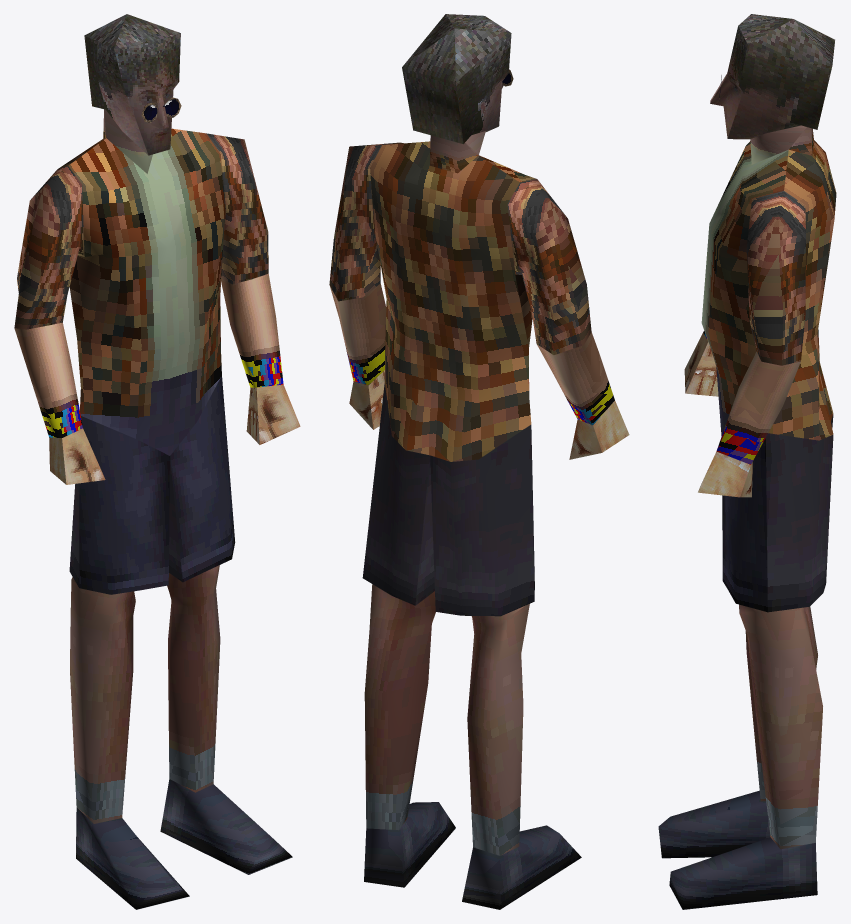
The model's file is boris.obj.
The picture shows the model from 3 angles, left to right: view 1: azimuth 30°, elevation 25°; view 2: azimuth 150°, elevation 25°; view 3: azimuth 270°, elevation 25°; orthographic projection. The views are drawn at different scales.
Parts seen in each view (by area): view 1: 15B849C5_c.bmp, 2045302C_c.bmp, 7B56703E_c.bmp, BEAA2D8_c.bmp, 53447286_c.bmp, 65322669_c.bmp, 116A52D5_c.bmp, 2E8AC6D4_c.bmp, 257DB619_c.bmp, 5F60E625_c.bmp, 190CD304_c.bmp, 5D79F3BA_c.bmp (+1 smaller); view 2: 380D7CA0_c.bmp, 190CD304_c.bmp, 2045302C_c.bmp, BEAA2D8_c.bmp, 53447286_c.bmp, 65322669_c.bmp, 5F60E625_c.bmp, 257DB619_c.bmp, 71AA0F1F_c.bmp, 59B55364_c.bmp, 60944829_c.bmp, 15B849C5_c.bmp (+1 smaller); view 3: 2045302C_c.bmp, 53447286_c.bmp, 190CD304_c.bmp, 15B849C5_c.bmp, BEAA2D8_c.bmp, 380D7CA0_c.bmp, 4452A4BF_c.bmp, 7B56703E_c.bmp, 65322669_c.bmp, 116A52D5_c.bmp, 60944829_c.bmp, 5F60E625_c.bmp (+4 smaller).
Boxes of the visible parts, x1,y1,x2,y2 form: 15B849C5_c.bmp: [68, 128, 225, 455]; 2045302C_c.bmp: [70, 565, 220, 823]; 7B56703E_c.bmp: [79, 376, 235, 594]; BEAA2D8_c.bmp: [14, 133, 268, 329]; 53447286_c.bmp: [76, 779, 292, 909]; 65322669_c.bmp: [14, 273, 283, 437]; 116A52D5_c.bmp: [114, 33, 180, 155]; 2E8AC6D4_c.bmp: [62, 384, 300, 484]; 257DB619_c.bmp: [84, 35, 148, 155]; 5F60E625_c.bmp: [84, 14, 180, 48]; 190CD304_c.bmp: [69, 458, 182, 587]; 5D79F3BA_c.bmp: [104, 109, 152, 173]; 380D7CA0_c.bmp: [370, 141, 531, 461]; 190CD304_c.bmp: [362, 383, 534, 616]; 2045302C_c.bmp: [364, 584, 529, 855]; BEAA2D8_c.bmp: [329, 142, 591, 354]; 53447286_c.bmp: [364, 802, 581, 909]; 65322669_c.bmp: [329, 283, 614, 424]; 5F60E625_c.bmp: [402, 14, 510, 144]; 257DB619_c.bmp: [456, 33, 511, 143]; 71AA0F1F_c.bmp: [349, 381, 601, 459]; 59B55364_c.bmp: [430, 135, 478, 173]; 60944829_c.bmp: [593, 401, 629, 452]; 15B849C5_c.bmp: [384, 142, 536, 347]; 2045302C_c.bmp: [739, 604, 822, 849]; 53447286_c.bmp: [658, 790, 817, 909]; 190CD304_c.bmp: [765, 415, 833, 612]; 15B849C5_c.bmp: [701, 141, 788, 435]; BEAA2D8_c.bmp: [746, 191, 805, 365]; 380D7CA0_c.bmp: [768, 140, 836, 440]; 4452A4BF_c.bmp: [727, 19, 832, 139]; 7B56703E_c.bmp: [722, 438, 767, 612]; 65322669_c.bmp: [703, 331, 800, 464]; 116A52D5_c.bmp: [710, 26, 747, 138]; 60944829_c.bmp: [698, 451, 750, 497]; 5F60E625_c.bmp: [738, 14, 834, 65].
Size of the model in its own units: 32.64 by 106 by 20.25.
Materials: 20 (20 with a texture image).
